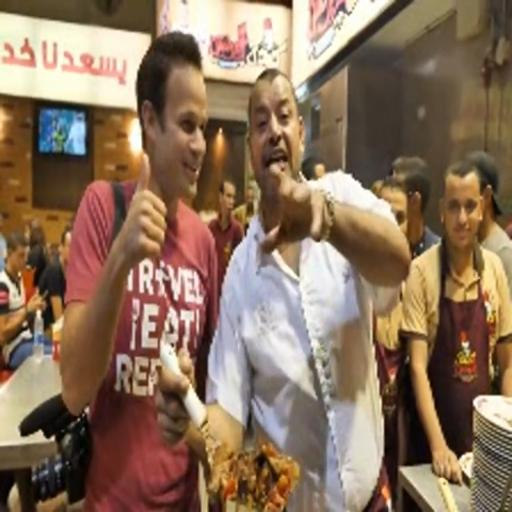nao-violencia: (47, 26, 420, 512)
